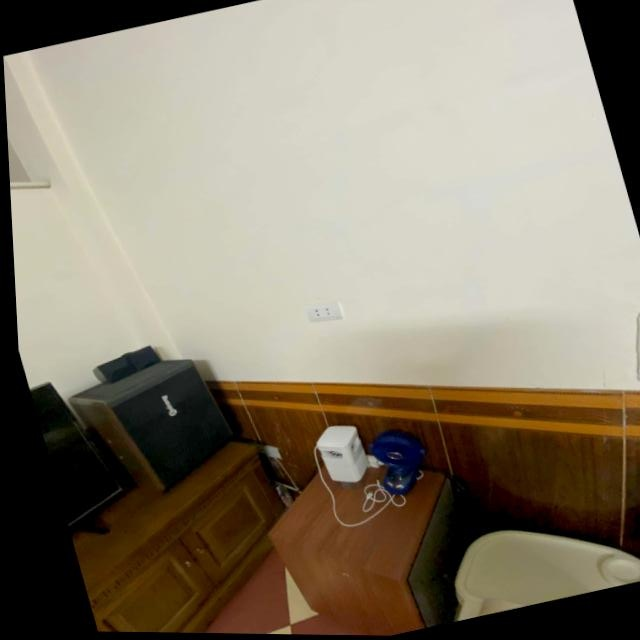outlet: (305, 298, 346, 326)
